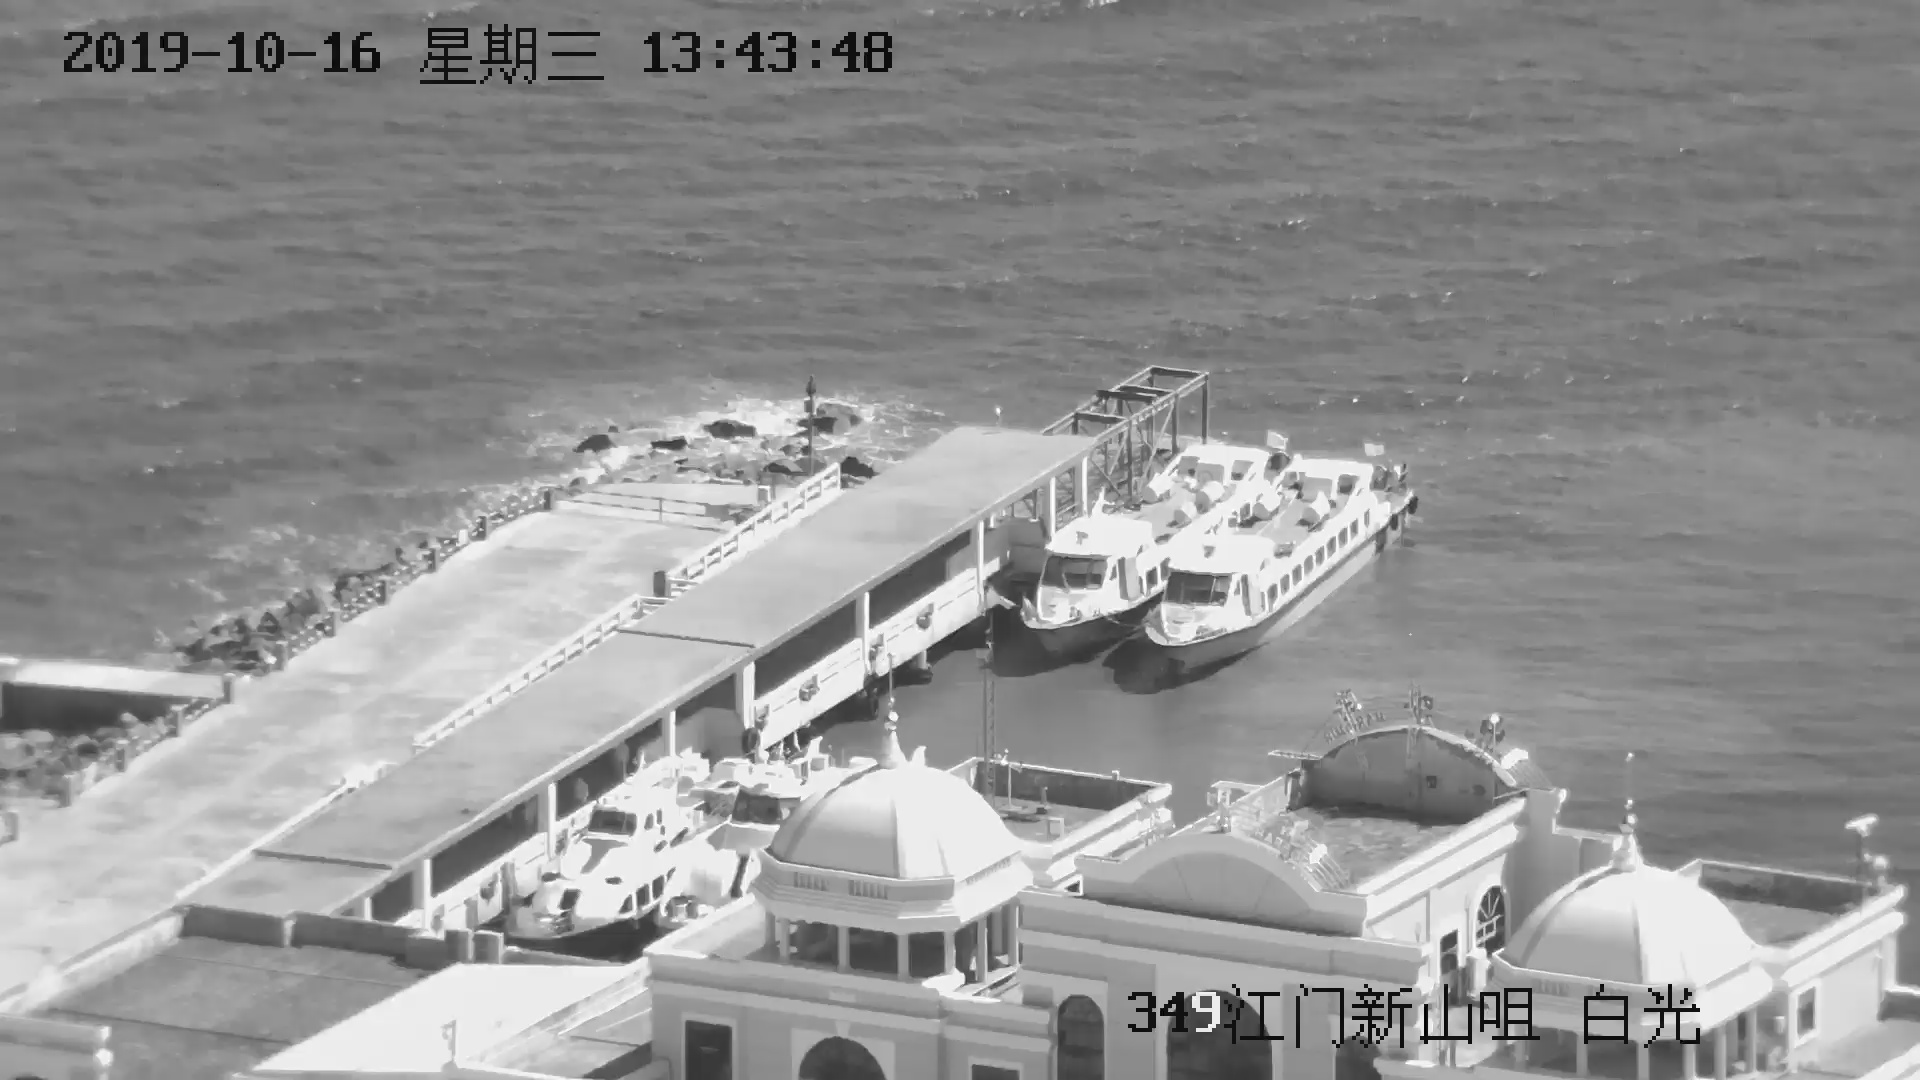ship: (1139, 436, 1422, 674), (495, 754, 815, 953), (1007, 512, 1172, 650)
